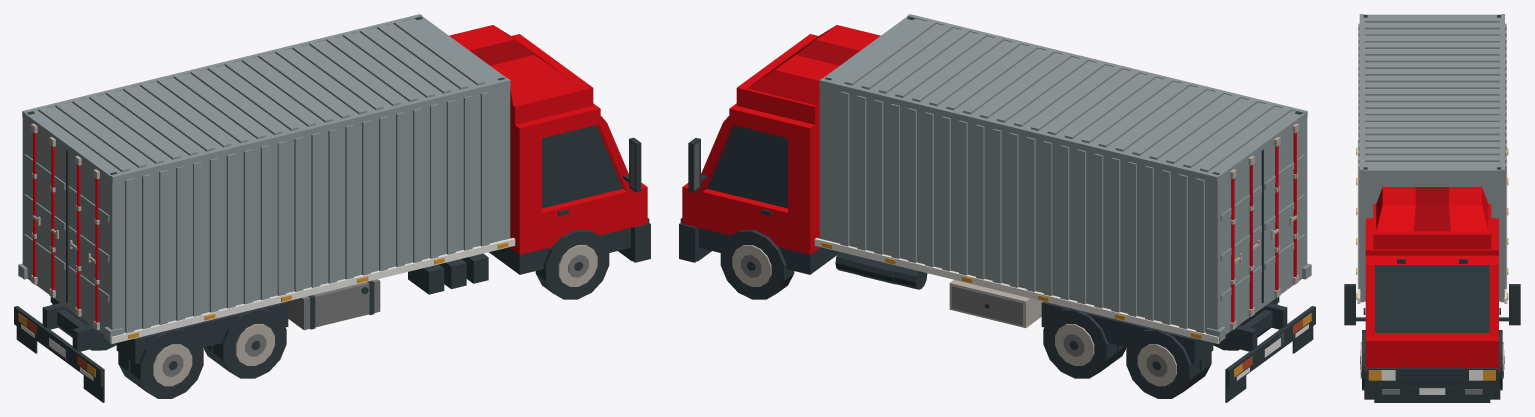
The model's file is q5 regional truck.fbx.
The picture shows the model from 3 angles, left to right: view 1: azimuth 30°, elevation 25°; view 2: azimuth 150°, elevation 25°; view 3: azimuth 270°, elevation 25°; orthographic projection. The views are drawn at different scales.
Parts seen in each view (by area): view 1: Bar_Guide_0_1.85, A2, Wheel_R2_R_Out_Cap, Wheel_R1_R_In_Tire, Wheel_F_R_Cap; view 2: Bar_Guide_0_1.85, A2, Wheel_R2_L_Out_Cap, Wheel_R1_L_Out_Cap, Wheel_F_L_Tire; view 3: Bar_Guide_0_1.85, A2, Wheel_F_R_Cap, Wheel_F_L_Tire.
Boxes of the visible parts, bbox=[...] form: Bar_Guide_0_1.85: bbox=[14, 14, 650, 402]; A2: bbox=[33, 122, 633, 322]; Wheel_R2_R_Out_Cap: bbox=[118, 328, 203, 398]; Wheel_R1_R_In_Tire: bbox=[203, 308, 286, 378]; Wheel_F_R_Cap: bbox=[535, 230, 609, 299]; Bar_Guide_0_1.85: bbox=[679, 14, 1315, 402]; A2: bbox=[696, 122, 1296, 322]; Wheel_R2_L_Out_Cap: bbox=[1126, 328, 1211, 398]; Wheel_R1_L_Out_Cap: bbox=[1043, 308, 1126, 378]; Wheel_F_L_Tire: bbox=[720, 230, 794, 299]; Bar_Guide_0_1.85: bbox=[1344, 14, 1520, 402]; A2: bbox=[1365, 265, 1498, 336]; Wheel_F_R_Cap: bbox=[1360, 330, 1365, 390]; Wheel_F_L_Tire: bbox=[1499, 330, 1504, 390].
Size of the model in its own units: 869 by 358 by 298.
